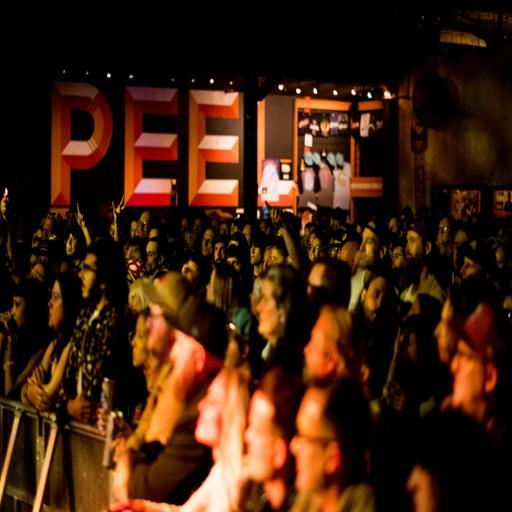face: (291, 388, 332, 492), (244, 390, 274, 482), (451, 339, 485, 415), (304, 311, 337, 381), (195, 373, 226, 447), (406, 465, 440, 511), (257, 279, 283, 339), (434, 299, 457, 365), (147, 303, 173, 361), (362, 276, 386, 322), (131, 315, 149, 367), (359, 228, 379, 268), (80, 254, 97, 298), (48, 281, 63, 330), (460, 256, 482, 280), (406, 230, 423, 258), (437, 218, 452, 248), (11, 296, 25, 328), (146, 241, 158, 273), (202, 229, 214, 257), (138, 212, 150, 240), (42, 216, 55, 240), (309, 237, 321, 261), (129, 294, 142, 316), (66, 234, 78, 256), (392, 247, 404, 268), (214, 242, 226, 262)
